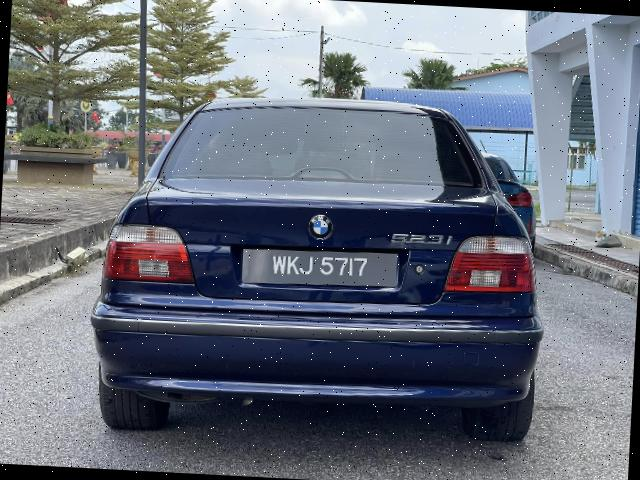License_Plate: (252, 252, 385, 284)
